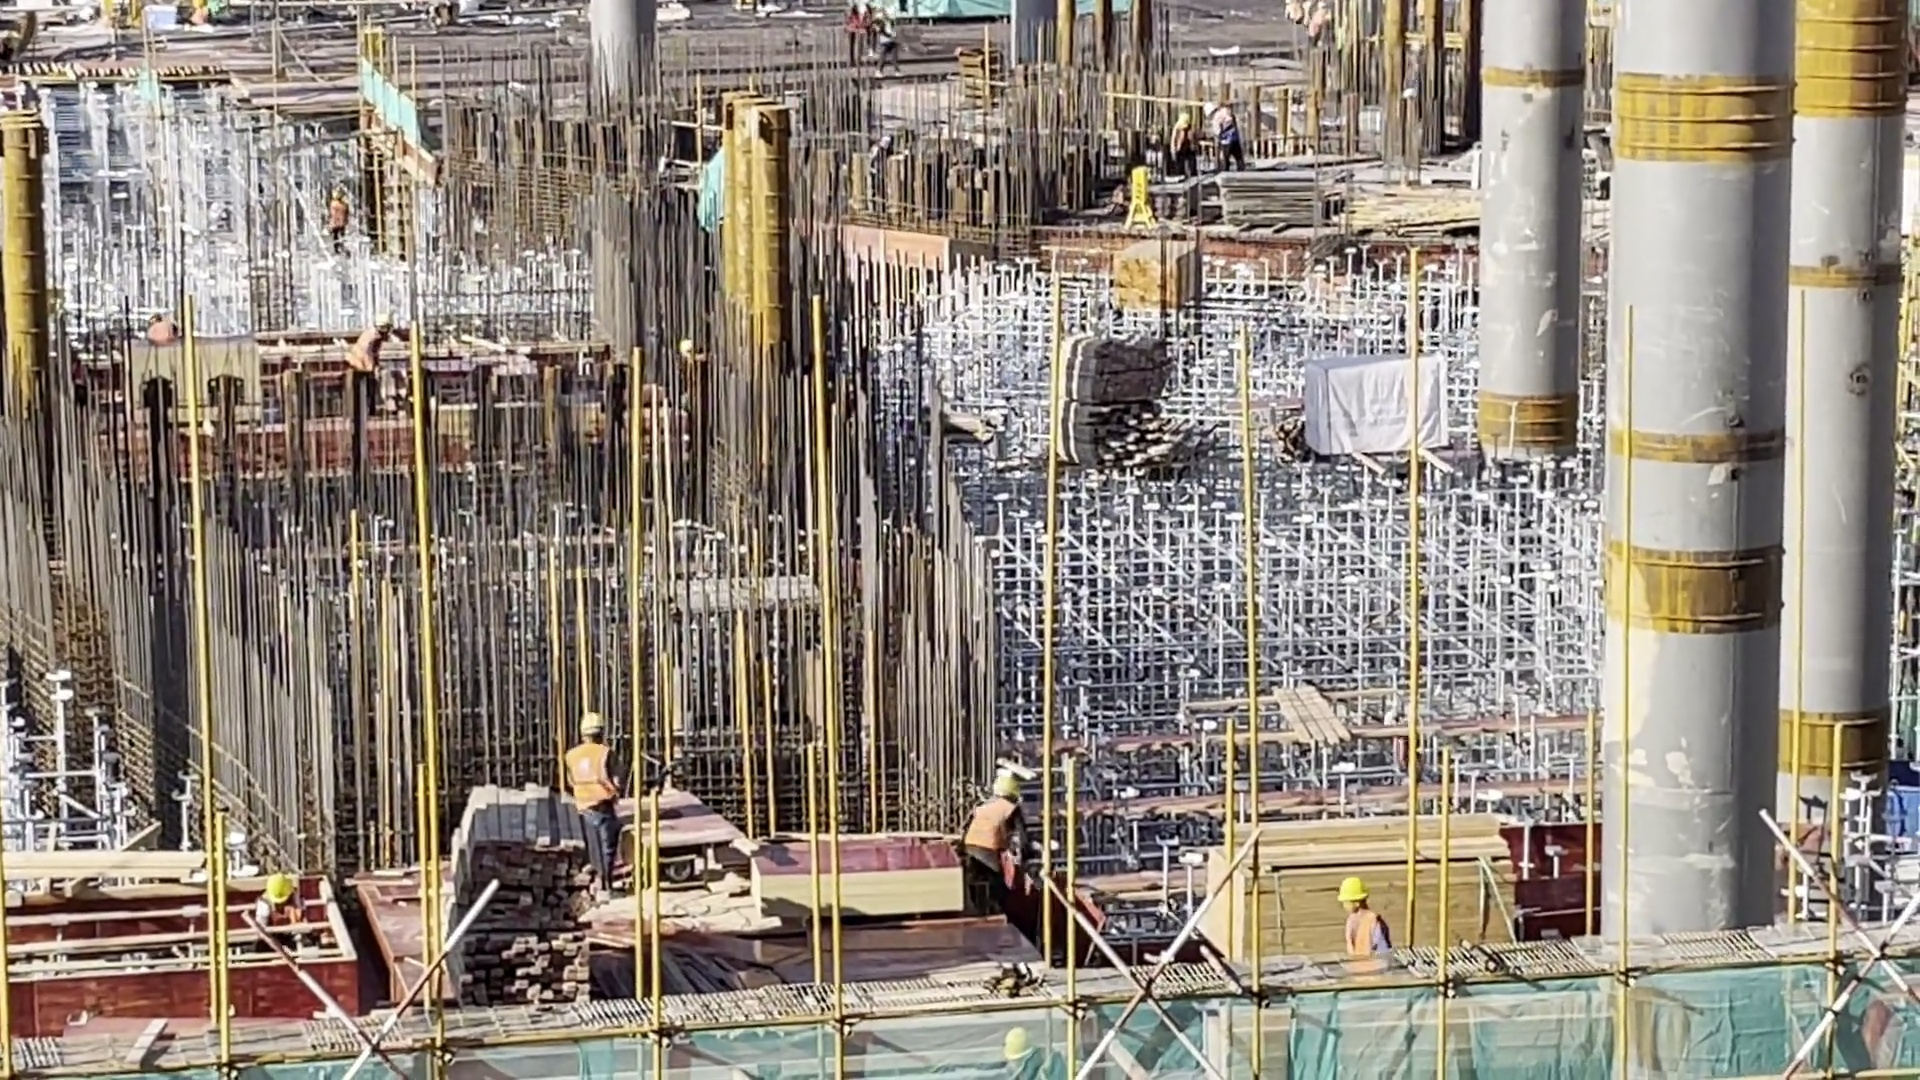helmet: (1326, 865, 1374, 908), (263, 861, 306, 906), (985, 767, 1021, 808), (573, 704, 611, 743)
person: (558, 708, 643, 908), (956, 768, 1058, 931), (1319, 863, 1403, 974), (244, 858, 329, 938)
vest: (558, 734, 617, 816), (962, 798, 1014, 856), (1343, 911, 1389, 956)
wood: (1199, 804, 1533, 982), (444, 760, 623, 1022)
